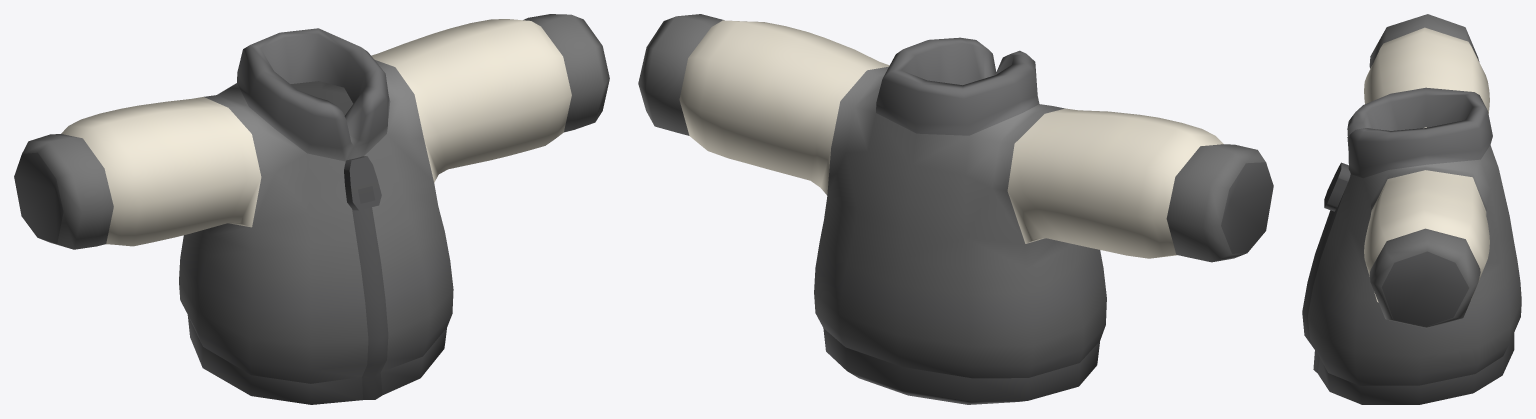
File: Top_33.fbx
The picture shows the model from 3 angles, left to right: view 1: azimuth 30°, elevation 25°; view 2: azimuth 150°, elevation 25°; view 3: azimuth 270°, elevation 25°; orthographic projection. The views are drawn at different scales.
Parts seen in each view (by area): view 1: Top_33; view 2: Top_33; view 3: Top_33.
Boxes of the visible parts, x1=… form: Top_33: x1=14, y1=14, x2=609, y2=404; Top_33: x1=638, y1=14, x2=1273, y2=404; Top_33: x1=1302, y1=14, x2=1521, y2=404.
Bounding box in the file's own units: 101 × 53.08 × 39.31.
